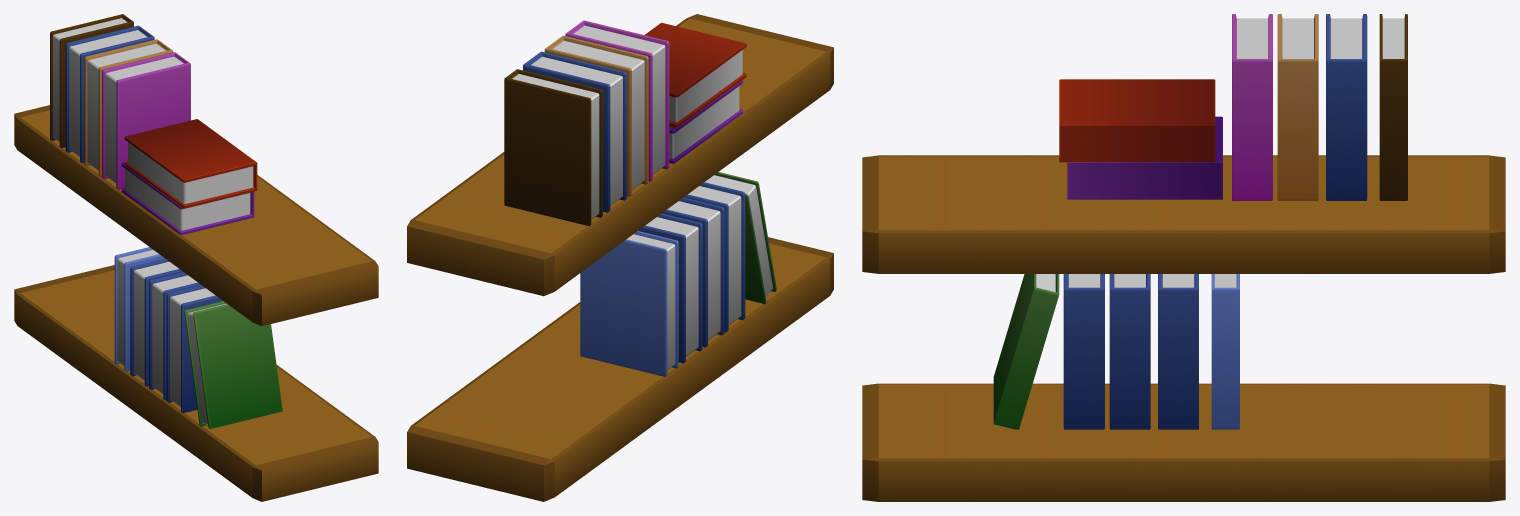
File: Books.fbx
3 renders of one model, left to right at view 1: azimuth 30°, elevation 25°; view 2: azimuth 150°, elevation 25°; view 3: azimuth 270°, elevation 25°, orthographic. The views are drawn at different scales.
Parts seen in each view (by area): view 1: Shelf2, Shelf1, Book7, Book1, Book3, Book2, Book5, Book8, Book4, Book6, Book10, Book9 (+1 smaller); view 2: Shelf2, Shelf1, Book6, Book11, Book1, Book5, Book4, Book3, Book10, Book9, Book8, Book7 (+1 smaller); view 3: Shelf2, Shelf1, Book1, Book4, Book5, Book3, Book8, Book9, Book10, Book2, Book7, Book6 (+1 smaller).
Part boxes in pixels (x1,y1,x2,y2): Shelf2: (14,265,378,501); Shelf1: (14,105,378,325); Book7: (184,301,282,428); Book1: (124,119,257,208); Book3: (102,52,190,189); Book2: (121,162,254,234); Book5: (65,25,154,163); Book8: (166,285,222,413); Book4: (84,39,173,176); Book6: (50,14,133,148); Book10: (130,258,183,386); Book9: (149,272,200,400); Shelf2: (407,237,833,501); Shelf1: (407,14,833,296); Book6: (504,69,602,225); Book11: (580,231,678,376); Book1: (644,22,746,127); Book5: (523,51,626,212); Book4: (544,35,648,196); Book3: (565,20,669,181); Book10: (638,213,702,363); Book9: (662,197,724,347); Book8: (684,182,745,332); Book7: (704,172,776,304); Shelf2: (862,383,1505,501); Shelf1: (862,155,1505,273); Book1: (1059,79,1215,162); Book4: (1277,14,1318,200); Book5: (1326,14,1367,200); Book3: (1232,14,1272,200); Book8: (1063,274,1104,429); Book9: (1109,274,1150,429); Book10: (1158,274,1198,429); Book2: (1067,116,1222,199); Book7: (993,274,1059,429); Book6: (1379,14,1407,200).
Size of the model in its own units: 85.89 by 212 by 300.
Materials: 1 (1 with a texture image).
